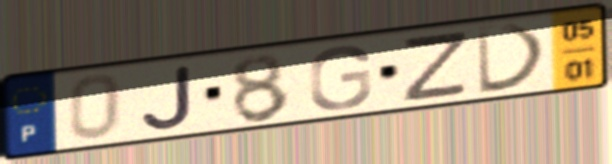0: (65, 71, 126, 144)
8: (228, 51, 294, 124)
D: (473, 21, 552, 97)
G: (305, 43, 374, 112)
J: (138, 62, 196, 132)
Z: (399, 28, 473, 105)
